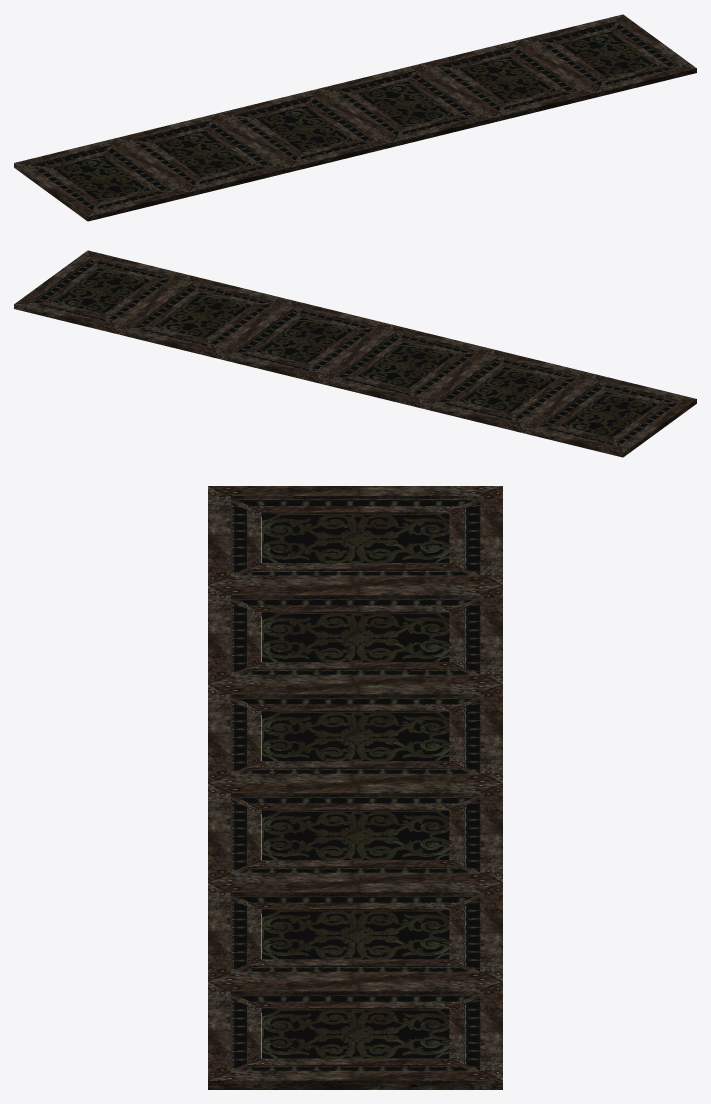
Rendered from collapse_gratings.DAE.
3 renders of one model, top to bottom at view 1: azimuth 30°, elevation 25°; view 2: azimuth 150°, elevation 25°; view 3: azimuth 270°, elevation 25°, orthographic. The views are drawn at different scales.
Parts seen in each view (by area): view 1: Box008, Box005; view 2: Box008, Box005; view 3: Box008, Box005.
Part boxes in pixels (x1,y1,x2,y2): Box008: (14, 14, 696, 221); Box005: (34, 23, 678, 210); Box008: (14, 250, 696, 457); Box005: (32, 259, 676, 445); Box008: (208, 486, 502, 1089); Box005: (230, 499, 480, 1070).
Size of the model in its own units: 18.6 by 0.1342 by 3.9.
